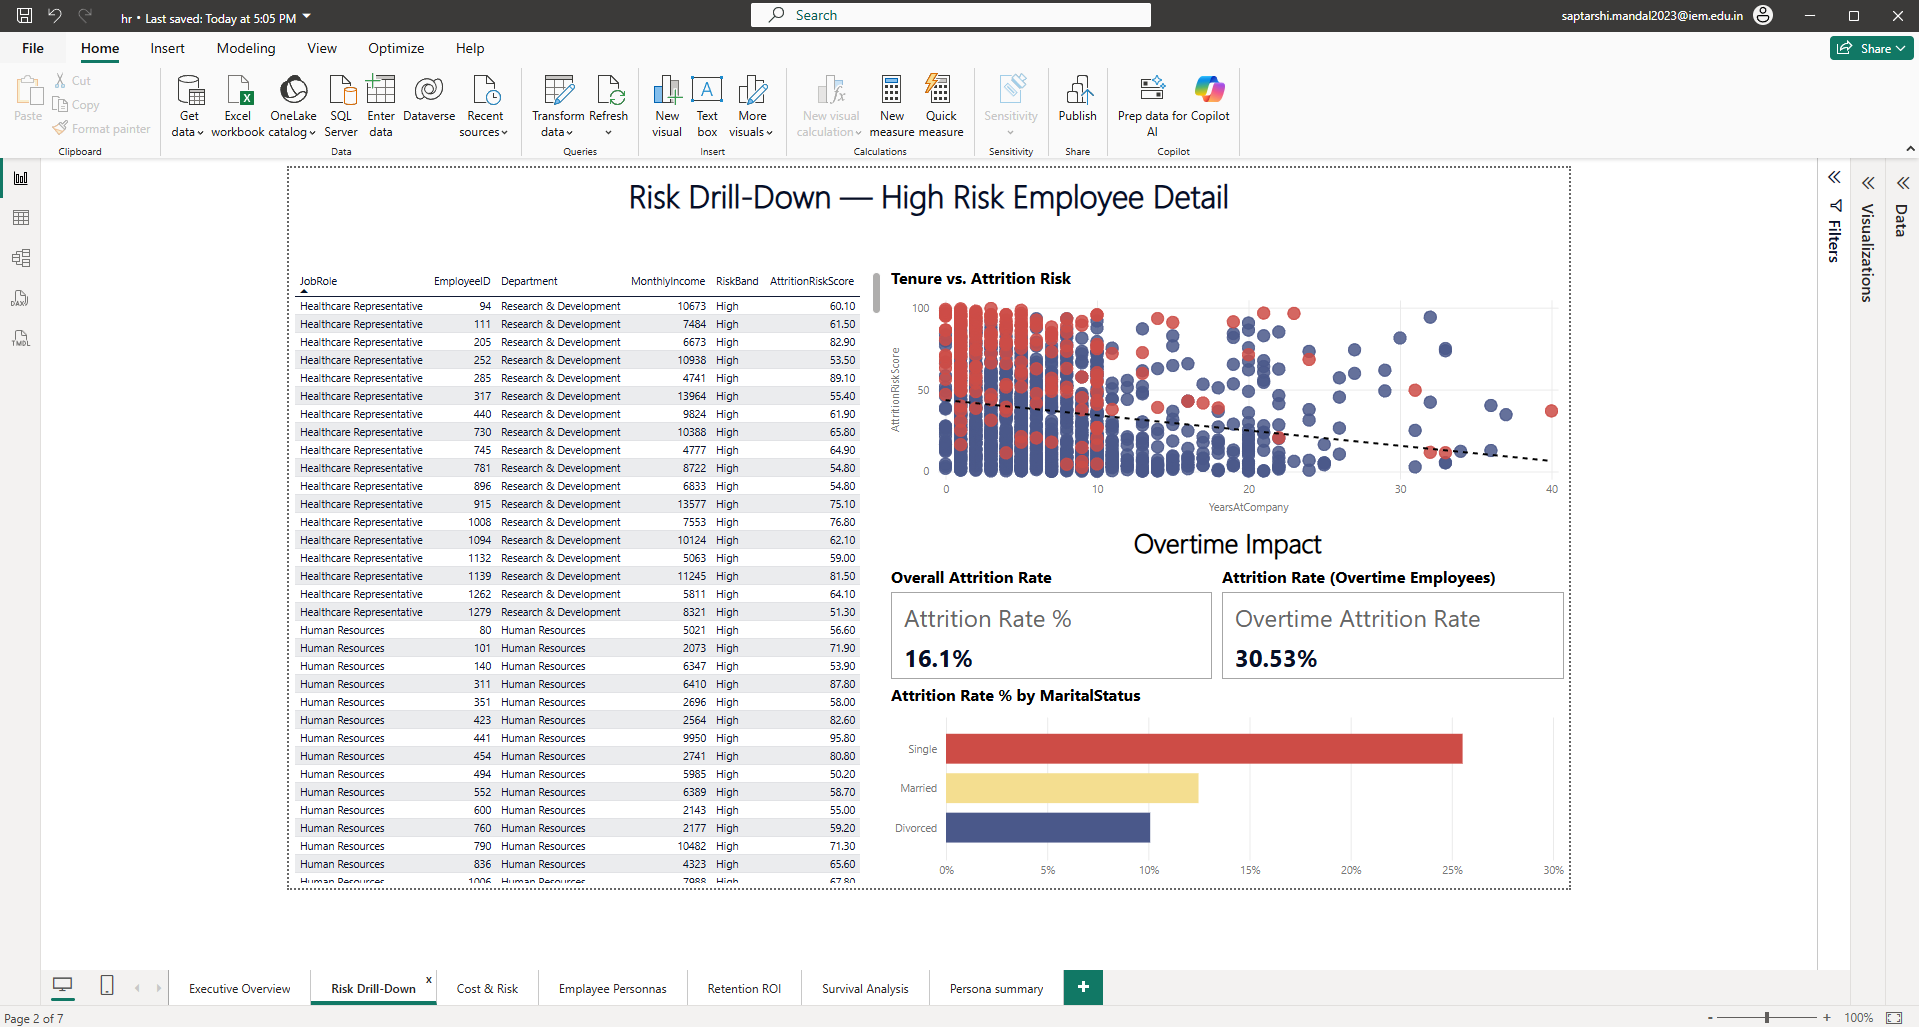

What the dashboard file says about the page in this screenshot:
{"tool":"powerbi","page":{"name":"Risk Drill-Down","canvas":[1280,720],"ordinal":1},"visuals":[{"type":"tableEx","fields":{"Values":["HR_Attrition_PowerBI_Ready.JobRole","HR_Attrition_PowerBI_Ready.EmployeeID","HR_Attrition_PowerBI_Ready.Department","HR_Attrition_PowerBI_Ready.MonthlyIncome","HR_Attrition_PowerBI_Ready.RiskBand","HR_Attrition_PowerBI_Ready.AttritionRiskScore"]},"box":[0,98.9,596.7,621.1],"z":0},{"type":"scatterChart","title":"Tenure vs. Attrition Risk","fields":{"X":["HR_Attrition_PowerBI_Ready.YearsAtCompany"],"Y":["HR_Attrition_PowerBI_Ready.AttritionRiskScore"],"Series":["HR_Attrition_PowerBI_Ready.Attrition"]},"box":[596.7,98.9,683.3,252.2],"z":1000},{"type":"clusteredBarChart","fields":{"Category":["HR_Attrition_PowerBI_Ready.MaritalStatus"],"Y":["HR_Attrition_PowerBI_Ready.Attrition Rate %"]},"box":[596.7,515.6,683.3,204.4],"z":2000},{"type":"cardVisual","title":"Overall Attrition Rate","fields":{"Data":["HR_Attrition_PowerBI_Ready.Attrition Rate %"]},"box":[596.7,397.8,331.1,117.8],"z":3000},{"type":"cardVisual","title":"Attrition Rate (Overtime Employees)","fields":{"Data":["HR_Attrition_PowerBI_Ready.Overtime Attrition Rate"]},"box":[927.8,397.8,352.2,117.8],"z":4000},{"type":"textbox","box":[596.7,351.1,683.3,46.7],"z":5000},{"type":"textbox","box":[0,0,1279.7,70.7],"z":6000}]}

Visuals, with their boxes on the page's 1280x720 design canvas (x1, y1, x2, y2). These are canvas units, not pixel positions in the 1919x1027 screenshot, which may show the page scaled, cropped or inside an application window:
tableEx - HR_Attrition_PowerBI_Ready.JobRole x HR_Attrition_PowerBI_Ready.EmployeeID: x1=0, y1=99, x2=597, y2=720
"Tenure vs. Attrition Risk" scatterChart: x1=597, y1=99, x2=1280, y2=351
clusteredBarChart - HR_Attrition_PowerBI_Ready.MaritalStatus x HR_Attrition_PowerBI_Ready.Attrition Rate %: x1=597, y1=516, x2=1280, y2=720
"Overall Attrition Rate" cardVisual: x1=597, y1=398, x2=928, y2=516
"Attrition Rate (Overtime Employees)" cardVisual: x1=928, y1=398, x2=1280, y2=516
textbox: x1=597, y1=351, x2=1280, y2=398
textbox: x1=0, y1=0, x2=1280, y2=71
